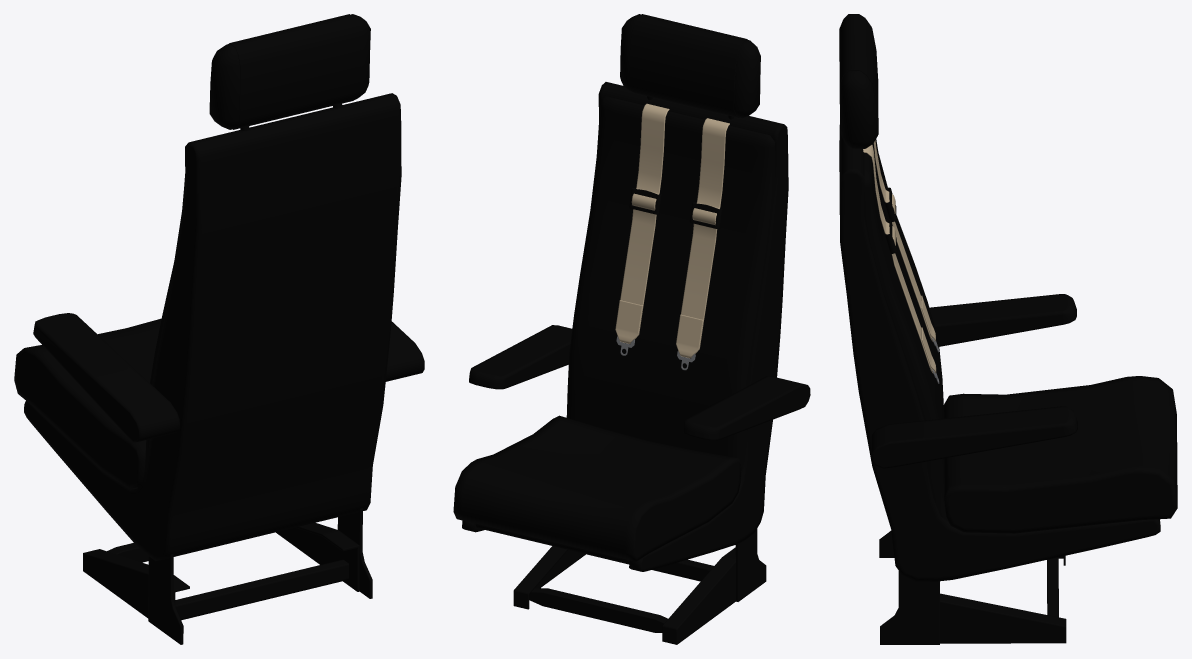
The model's file is Chair.fbx.
The picture shows the model from 3 angles, left to right: view 1: azimuth 30°, elevation 25°; view 2: azimuth 150°, elevation 25°; view 3: azimuth 270°, elevation 25°; orthographic projection. The views are drawn at different scales.
Visible parts, largest first — view 1: Chair_Airbus_H145.001 (×3); view 2: Chair_Airbus_H145.001 (×4); view 3: Chair_Airbus_H145.001 (×4).
Boxes of the visible parts, <box> form: Chair_Airbus_H145.001 (×3): <box>14,14,424,644</box>; Chair_Airbus_H145.001 (×4): <box>453,14,810,644</box>; Chair_Airbus_H145.001 (×4): <box>839,14,1177,644</box>.
Size of the model in its own units: 0.5204 by 1.04 by 0.5714.
